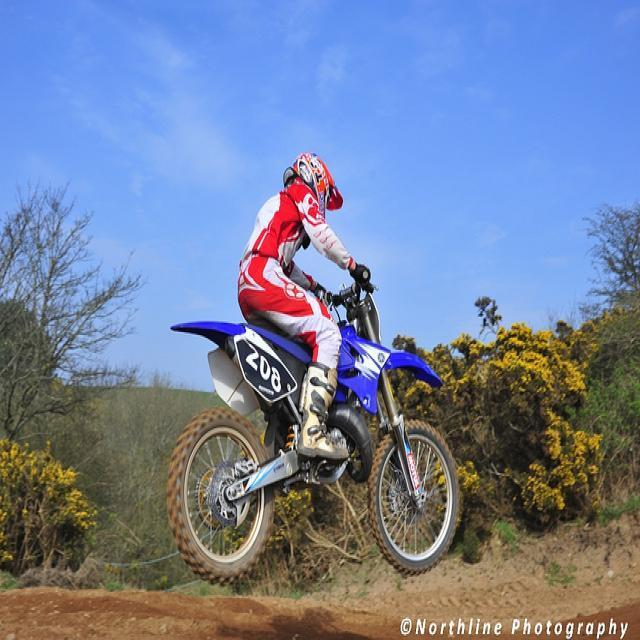motorcycle: (160, 272, 466, 582)
